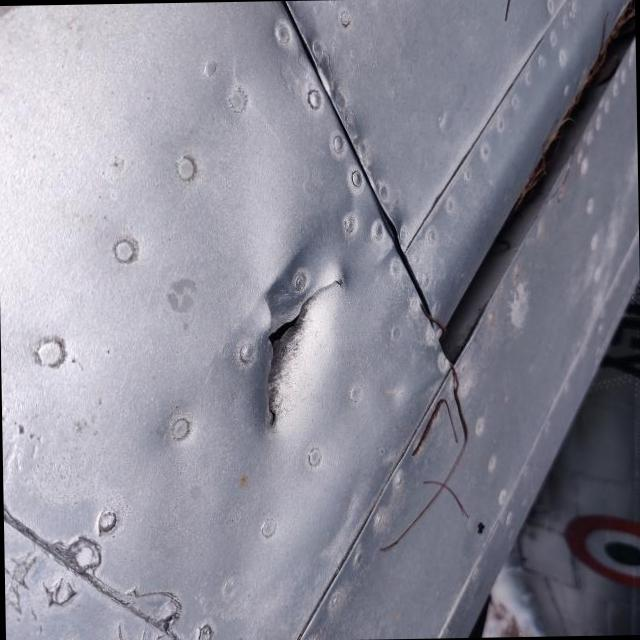Crack: (230, 220, 393, 462)
